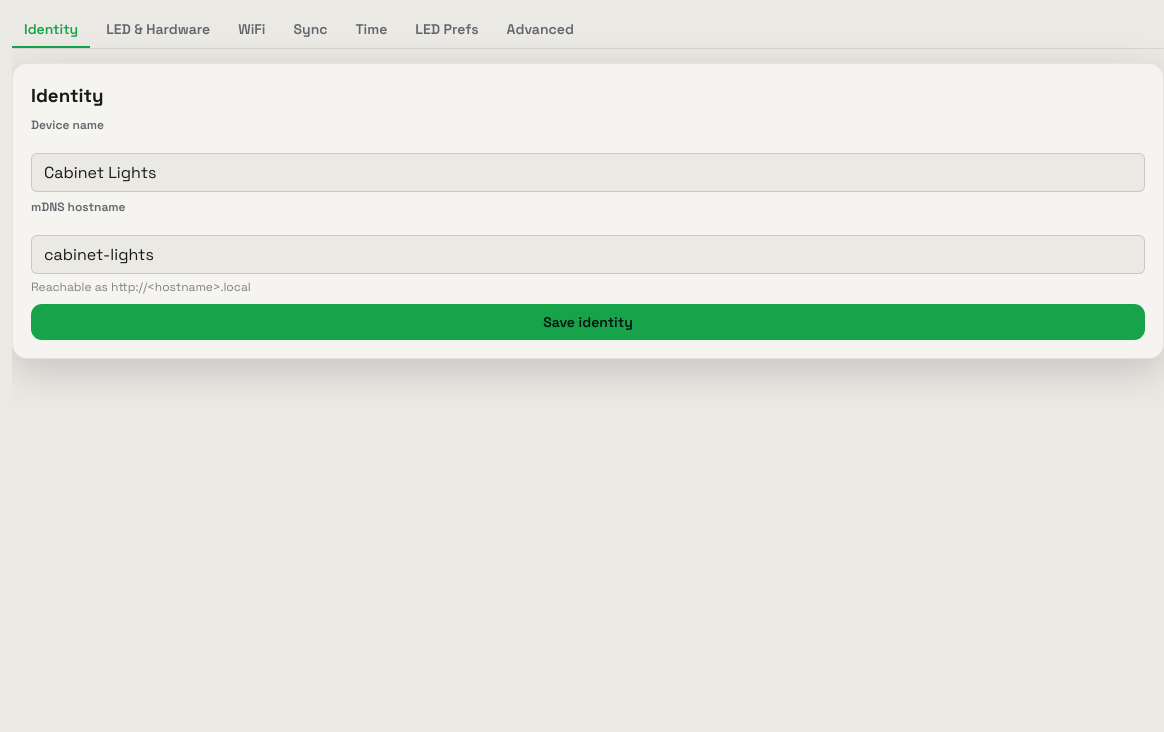
ConfigTab › an empty diff short-circuits to a "No changes" toast without a modal
What coordinates should you click on to do the following:
click the button "Save identity"
I would click on:
 (588, 322)
Its box is [31, 304, 1145, 340].
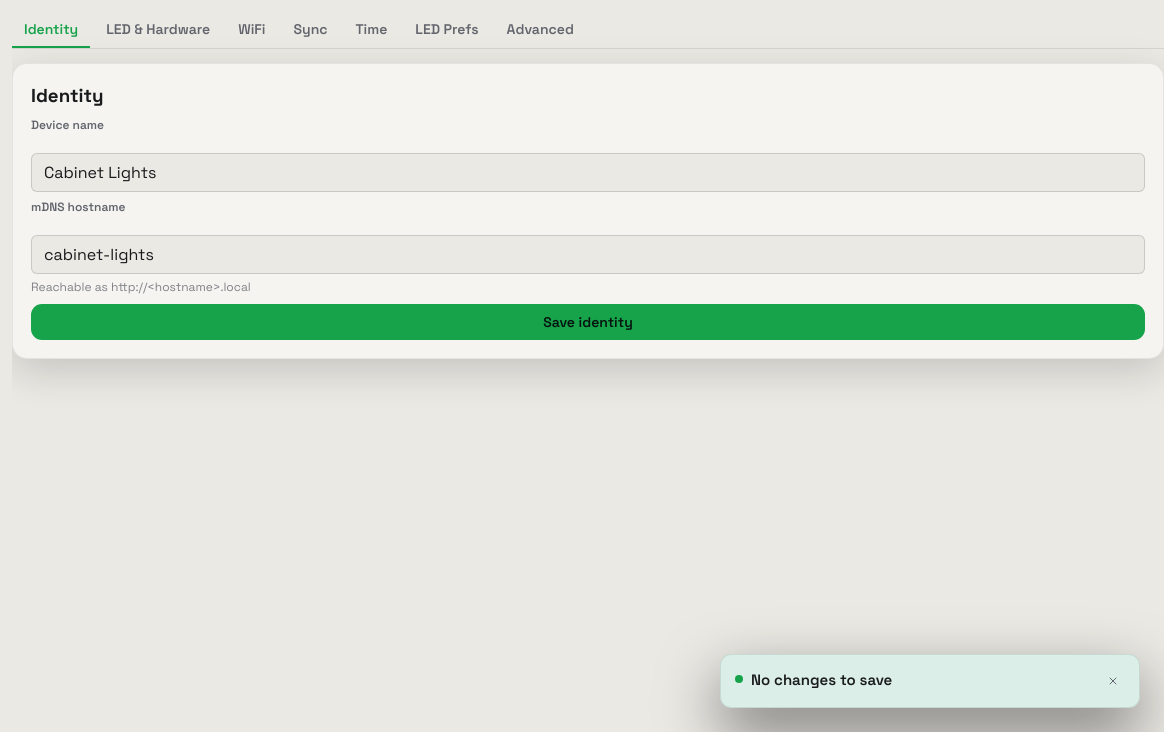
Result: the text "No changes to save" is shown at [751, 670, 892, 689]
